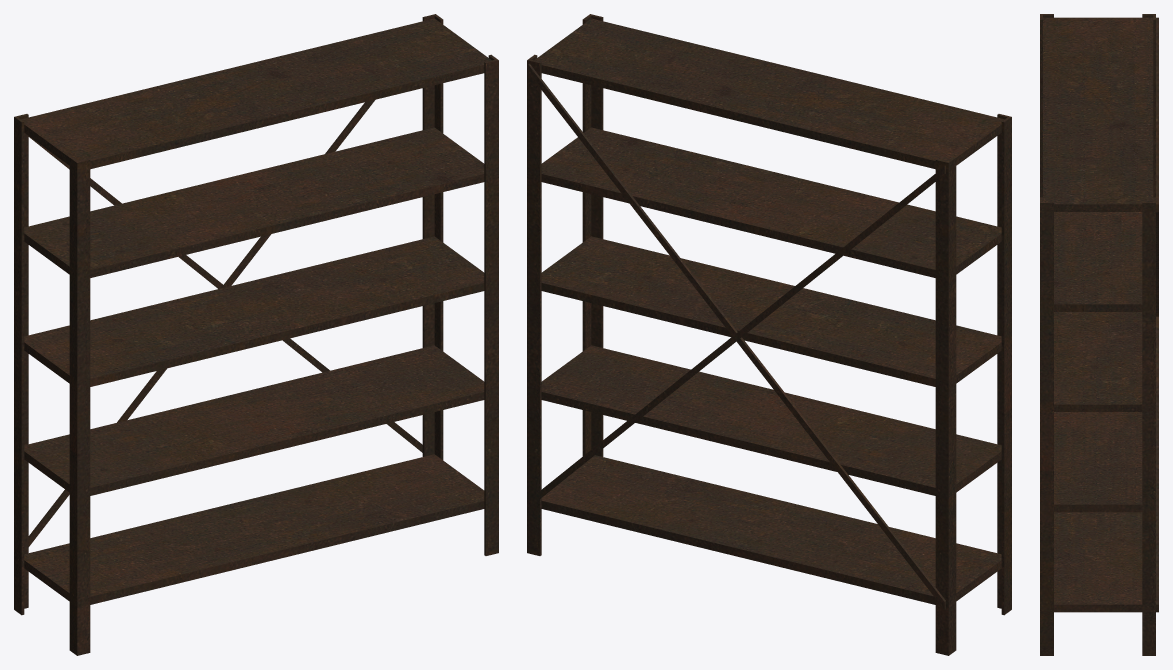
Rendered from shelf_mx_3.obj.
3 views of the same model, side by side, from view 1: azimuth 30°, elevation 25°; view 2: azimuth 150°, elevation 25°; view 3: azimuth 270°, elevation 25° (orthographic). The views are drawn at different scales.
Parts seen in each view (by area): view 1: shelf_mx_3; view 2: shelf_mx_3; view 3: shelf_mx_3.
Boxes of the visible parts, box(x1,y1,x2,y2) form: shelf_mx_3: box(14, 14, 498, 655); shelf_mx_3: box(527, 14, 1011, 655); shelf_mx_3: box(1040, 14, 1158, 655).
Bounding box in the file's own units: 1.62 × 1.81 × 0.43.
